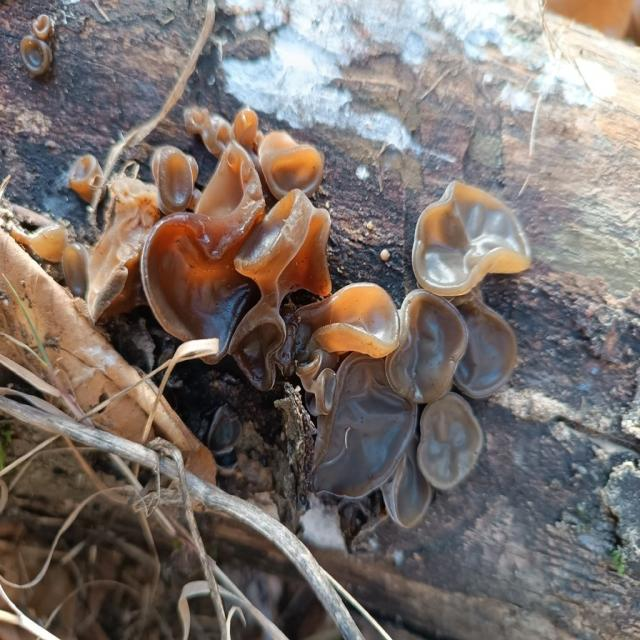Fase Muda: (138, 140, 262, 367), (226, 189, 331, 393), (305, 348, 417, 500), (411, 182, 533, 301), (88, 173, 172, 326), (384, 287, 470, 407), (280, 281, 402, 364), (448, 293, 520, 402), (416, 393, 486, 493), (379, 434, 436, 533), (257, 129, 325, 198), (6, 217, 72, 264), (294, 353, 341, 418), (60, 239, 94, 298)
primordia: (151, 142, 202, 214), (70, 154, 106, 205), (19, 34, 54, 82), (233, 107, 259, 148), (183, 102, 212, 135), (30, 12, 58, 40), (380, 248, 390, 265)
